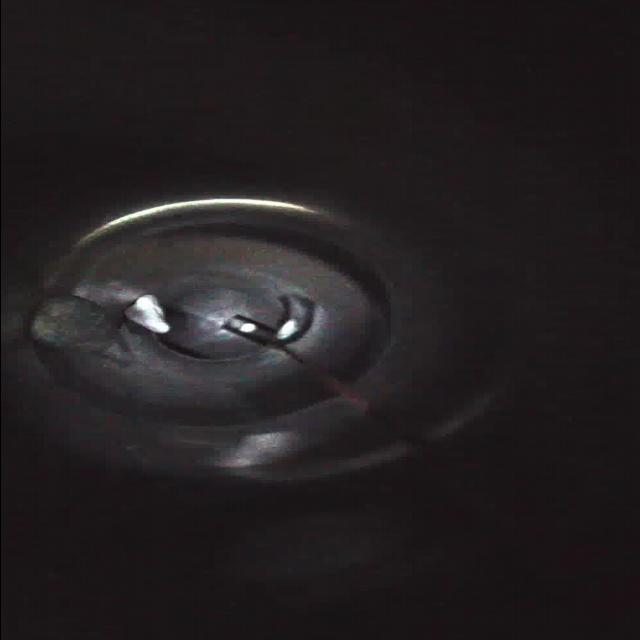impurity: (18, 292, 114, 352), (117, 288, 173, 339)
